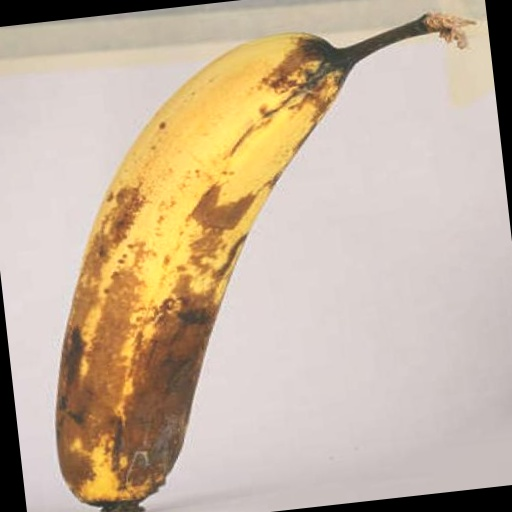fruit: (448, 0, 479, 50)
